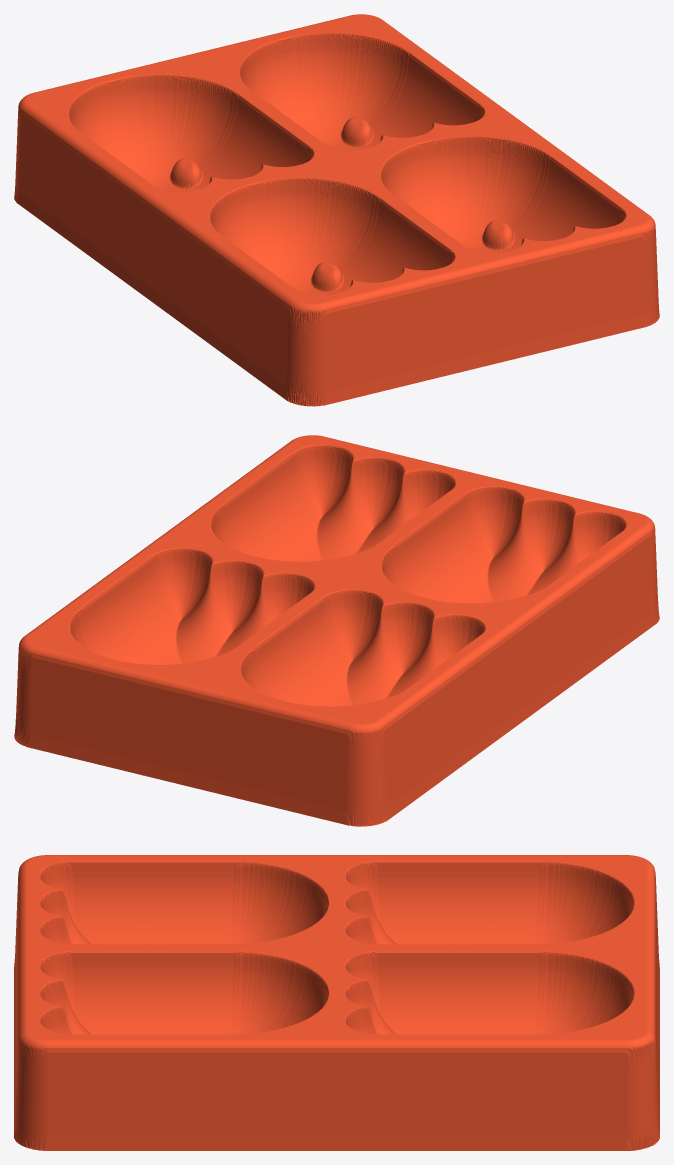
Rendered from mold.glb.
3 views of the same model, one above another, from view 1: azimuth 30°, elevation 25°; view 2: azimuth 150°, elevation 25°; view 3: azimuth 270°, elevation 25° (orthographic). The views are drawn at different scales.
Parts seen in each view (by area): view 1: geometry_0; view 2: geometry_0; view 3: geometry_0.
Boxes of the visible parts, x1=… form: geometry_0: x1=14, y1=14, x2=659, y2=406; geometry_0: x1=14, y1=435, x2=659, y2=826; geometry_0: x1=14, y1=855, x2=659, y2=1150.
Size of the model in its own units: 0.1232 by 0.031 by 0.1721.
